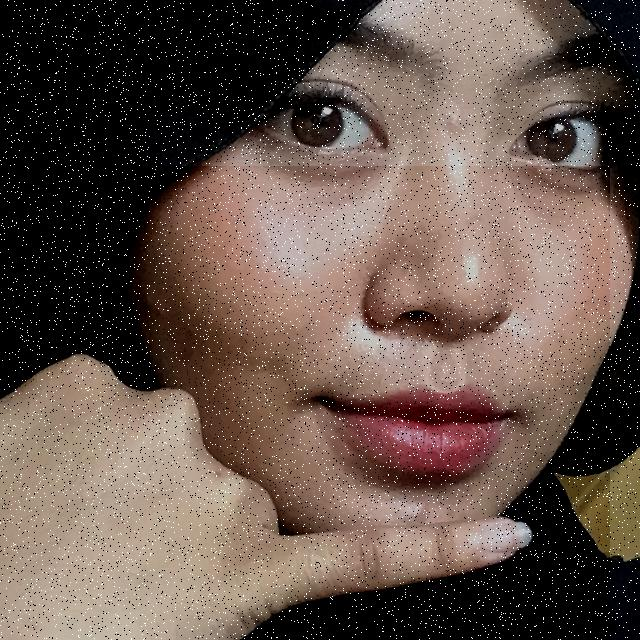telpon: (0, 166, 610, 640)
